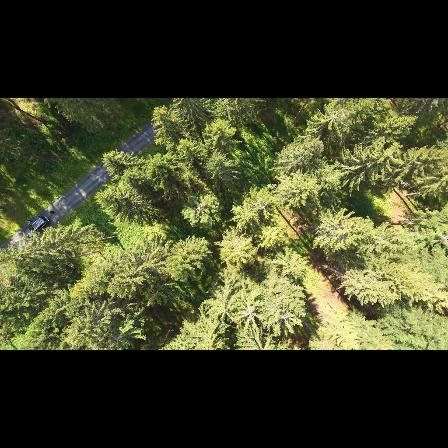Sick: (271, 303, 298, 332), (236, 301, 264, 327)
